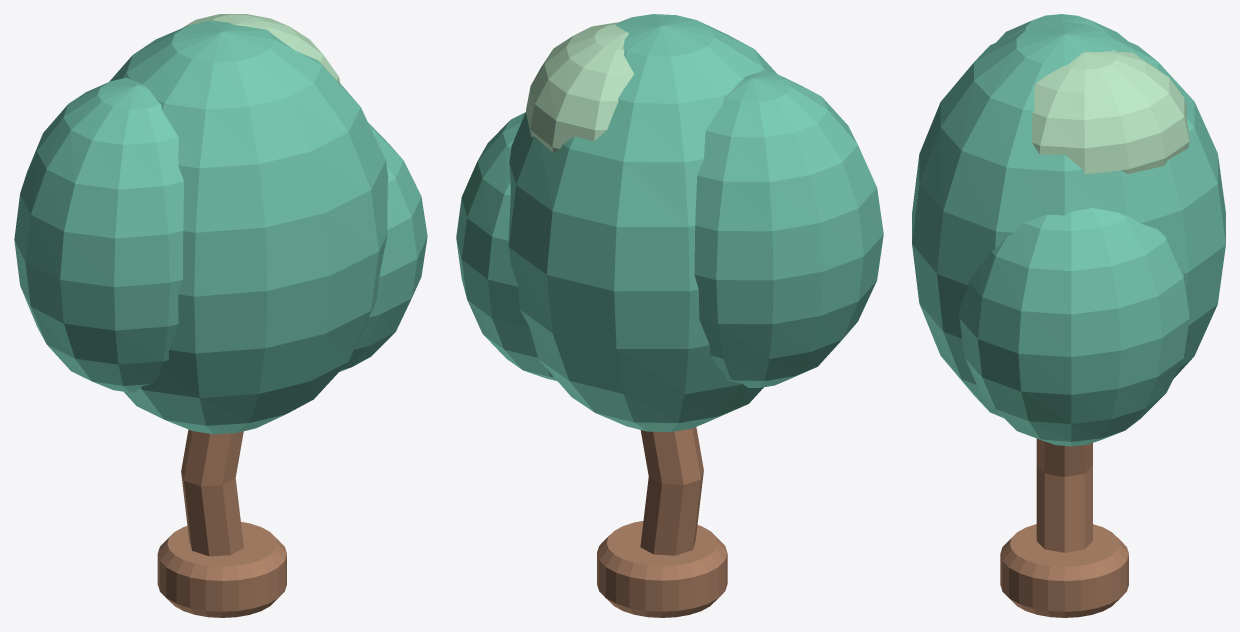
The model's file is MintTree.obj.
The picture shows the model from 3 angles, left to right: view 1: azimuth 30°, elevation 25°; view 2: azimuth 150°, elevation 25°; view 3: azimuth 270°, elevation 25°; orthographic projection.
Parts seen in each view (by area): view 1: Main_crown, Crown_right, Flared_roots, Crown_left, Curved_trunk, Crown_highlight; view 2: Main_crown, Crown_right, Crown_left, Crown_highlight, Flared_roots, Curved_trunk; view 3: Main_crown, Crown_left, Crown_highlight, Flared_roots, Curved_trunk, Crown_right.
Boxes of the visible parts, bbox=[...] form: Main_crown: bbox=[109, 20, 388, 434]; Crown_right: bbox=[14, 77, 183, 392]; Flared_roots: bbox=[157, 522, 286, 617]; Crown_left: bbox=[339, 122, 427, 371]; Curved_trunk: bbox=[181, 429, 243, 556]; Crown_highlight: bbox=[183, 14, 340, 83]; Main_crown: bbox=[508, 14, 776, 432]; Crown_right: bbox=[694, 70, 883, 387]; Crown_left: bbox=[456, 112, 557, 381]; Crown_highlight: bbox=[526, 22, 633, 153]; Flared_roots: bbox=[597, 521, 727, 617]; Curved_trunk: bbox=[640, 427, 703, 555]; Main_crown: bbox=[912, 22, 1225, 418]; Crown_left: bbox=[959, 208, 1189, 446]; Crown_highlight: bbox=[1032, 50, 1189, 174]; Flared_roots: bbox=[1000, 524, 1128, 617]; Curved_trunk: bbox=[1036, 438, 1092, 552]; Crown_right: bbox=[996, 14, 1127, 42].
Size of the model in its own units: 3.32 by 4.61 by 2.34.
